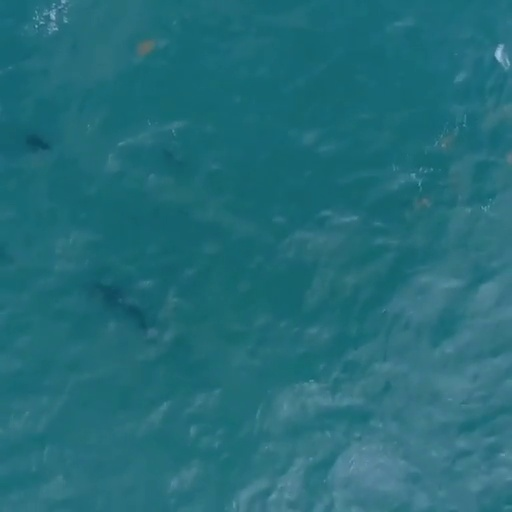shark: (84, 277, 157, 336)
